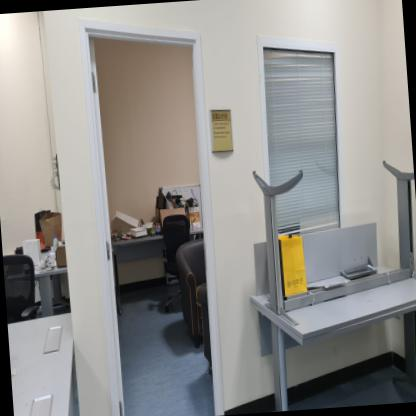open: (71, 3, 232, 415)
